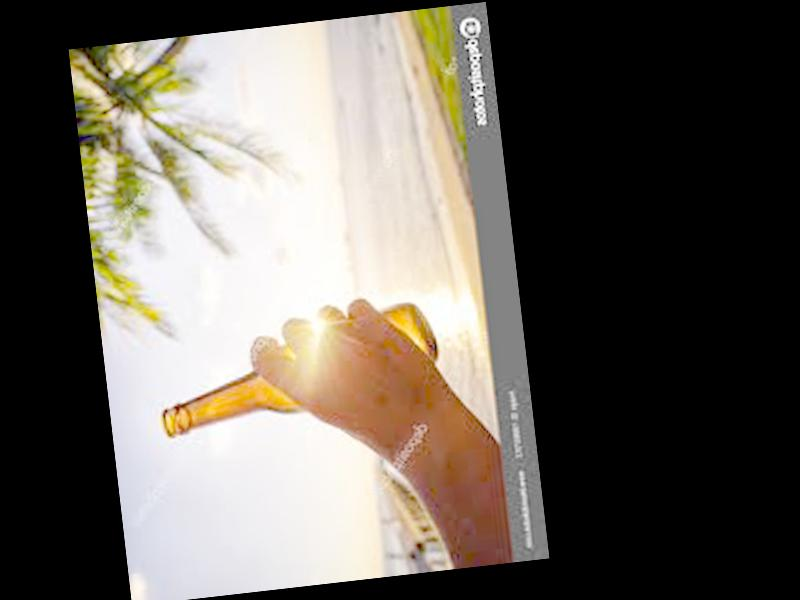Beer: (152, 301, 446, 441)
